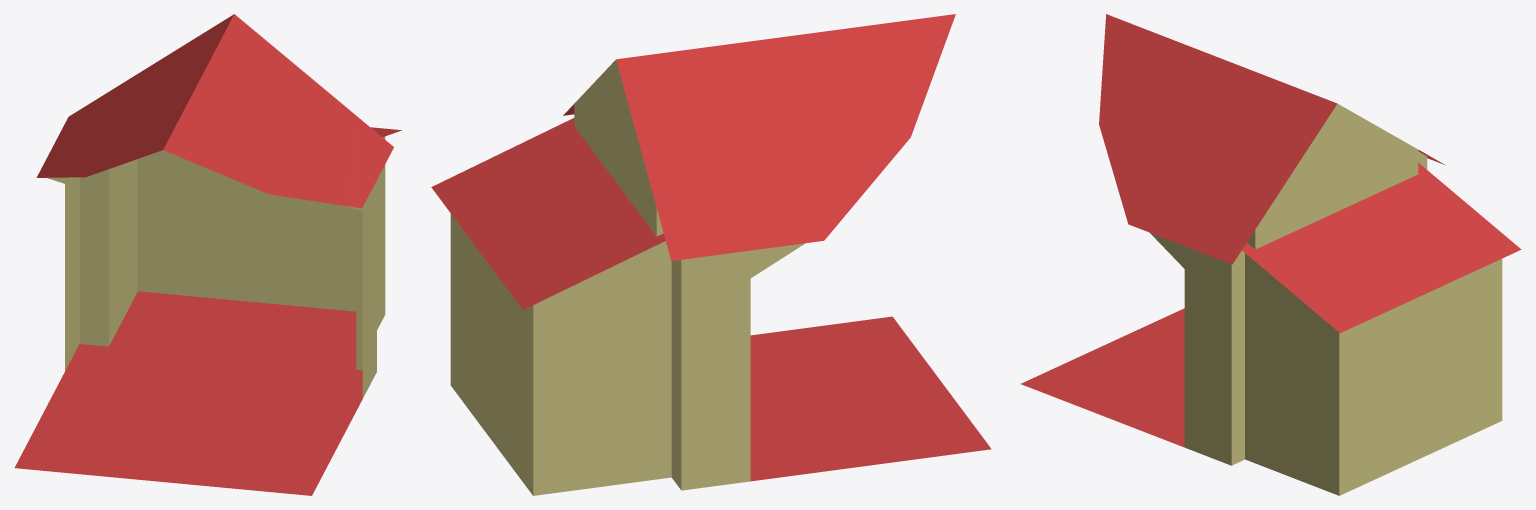
3 renders of one model, left to right at view 1: azimuth 30°, elevation 25°; view 2: azimuth 150°, elevation 25°; view 3: azimuth 270°, elevation 25°, orthographic. The views are drawn at different scales.
Bounding box in the file's own units: 18.2 × 18.31 × 12.97.
